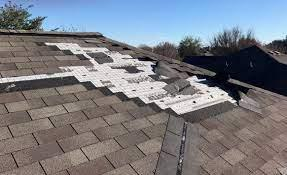sagging_roof: (62, 32, 251, 122)
